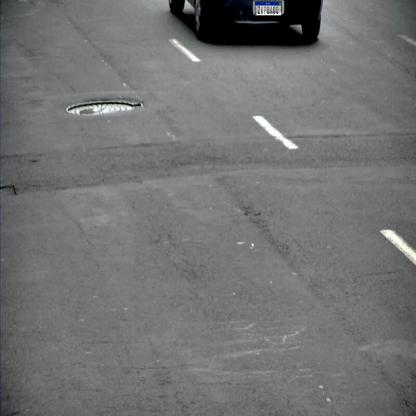PlacaM: (255, 1, 282, 16)
